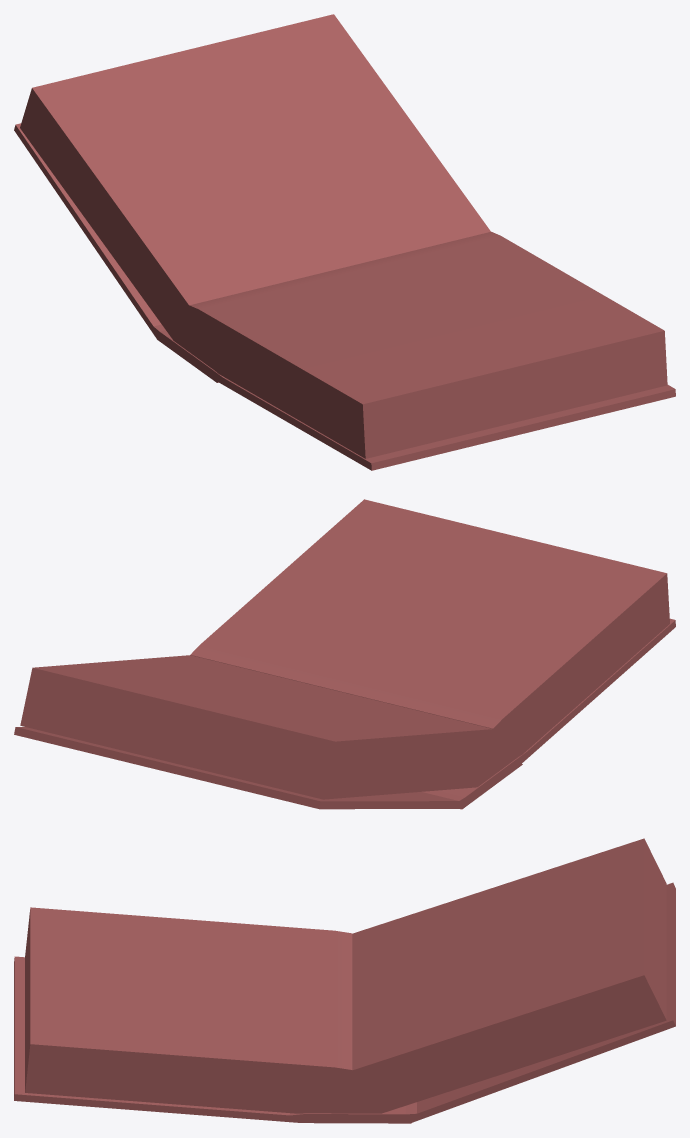
The model's file is open_book_1 1.fbx.
The picture shows the model from 3 angles, top to bottom: view 1: azimuth 30°, elevation 25°; view 2: azimuth 150°, elevation 25°; view 3: azimuth 270°, elevation 25°; orthographic projection. The views are drawn at different scales.
Parts seen in each view (by area): view 1: sketchfab_render:Book_FlatBook_Flat; view 2: sketchfab_render:Book_FlatBook_Flat; view 3: sketchfab_render:Book_FlatBook_Flat.
Boxes of the visible parts, <box> form: sketchfab_render:Book_FlatBook_Flat: <box>14,14,675,470</box>; sketchfab_render:Book_FlatBook_Flat: <box>14,499,675,809</box>; sketchfab_render:Book_FlatBook_Flat: <box>14,838,675,1123</box>.
Size of the model in its own units: 246 by 123 by 498.
